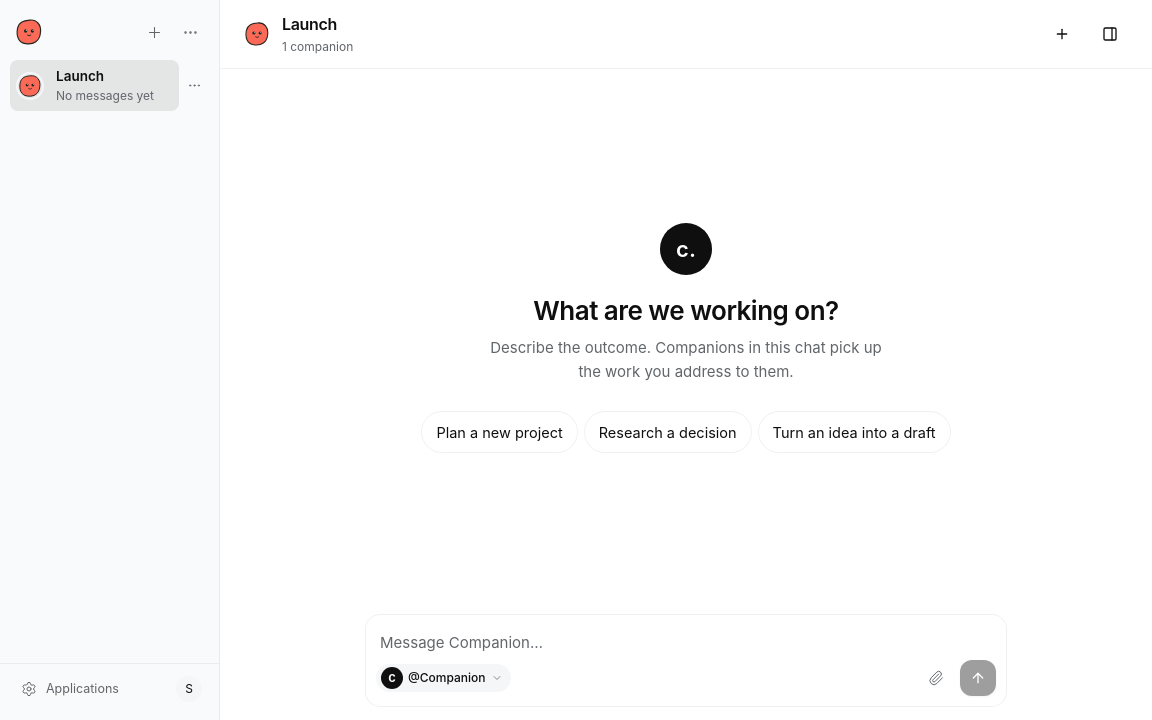
Test: uses the last complete mention without changing the work being inspected
Click the button named "Workspace" at [1110, 34], box [1092,16,1128,52]
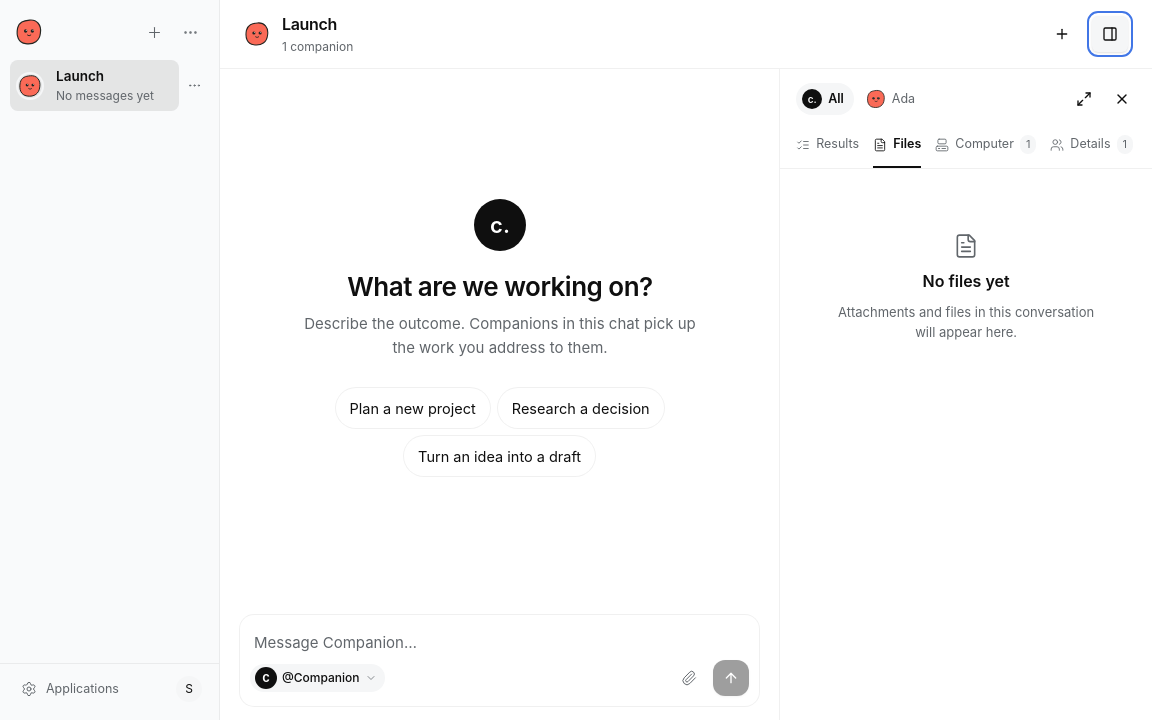
Click the tab "Ada" at [892, 99], box [860,83,925,115]
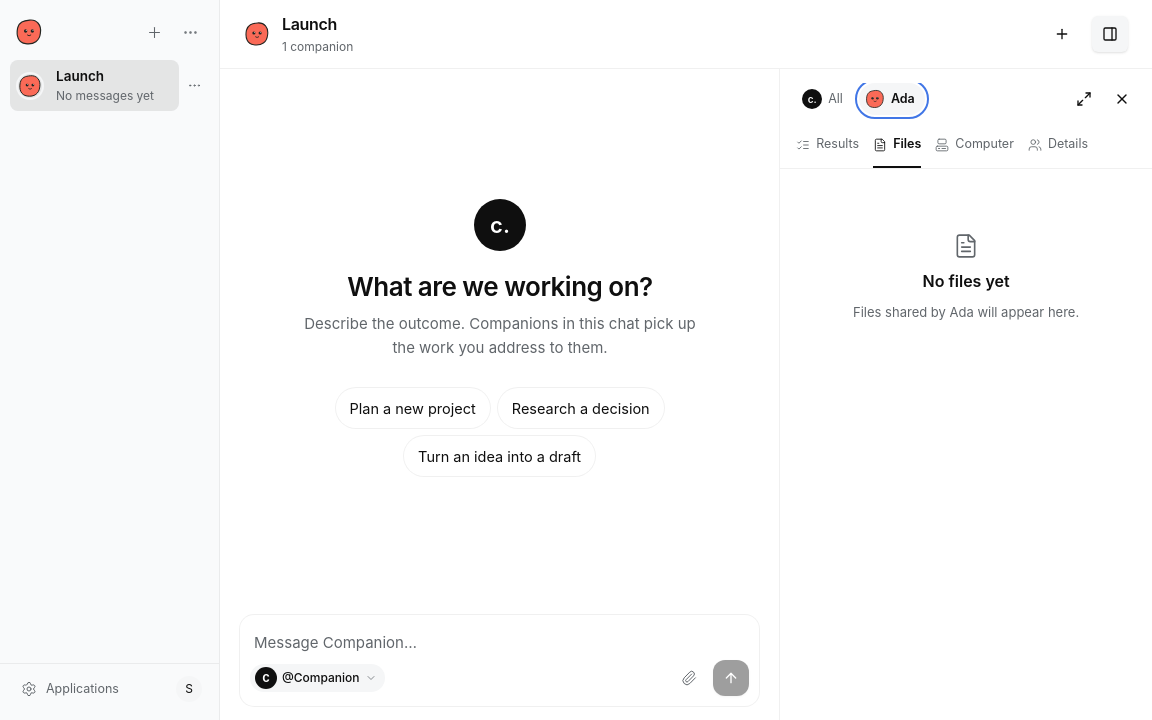
Type "@Ada continue puis @Companion, résume" into the text box labelled "Message Companion" at [500, 642], box [250,625,749,660]
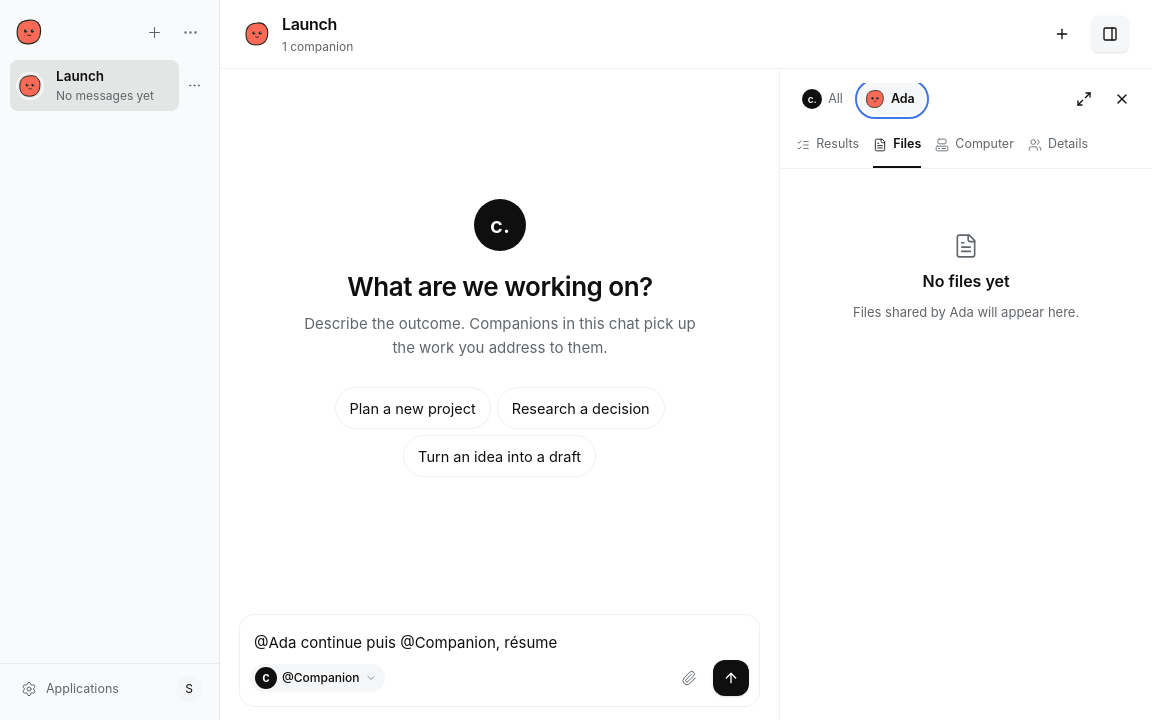
expect the dropdown named "Message recipient" shows "@Companion": met, box [282,664,360,692]
expect the element named "Ada workspace" is shown: met, box [779,69,1151,719]
Replace the text in the text box named "Message Companion" with "@Companion merci. @Ada continue" at [500, 642], box [250,625,749,660]
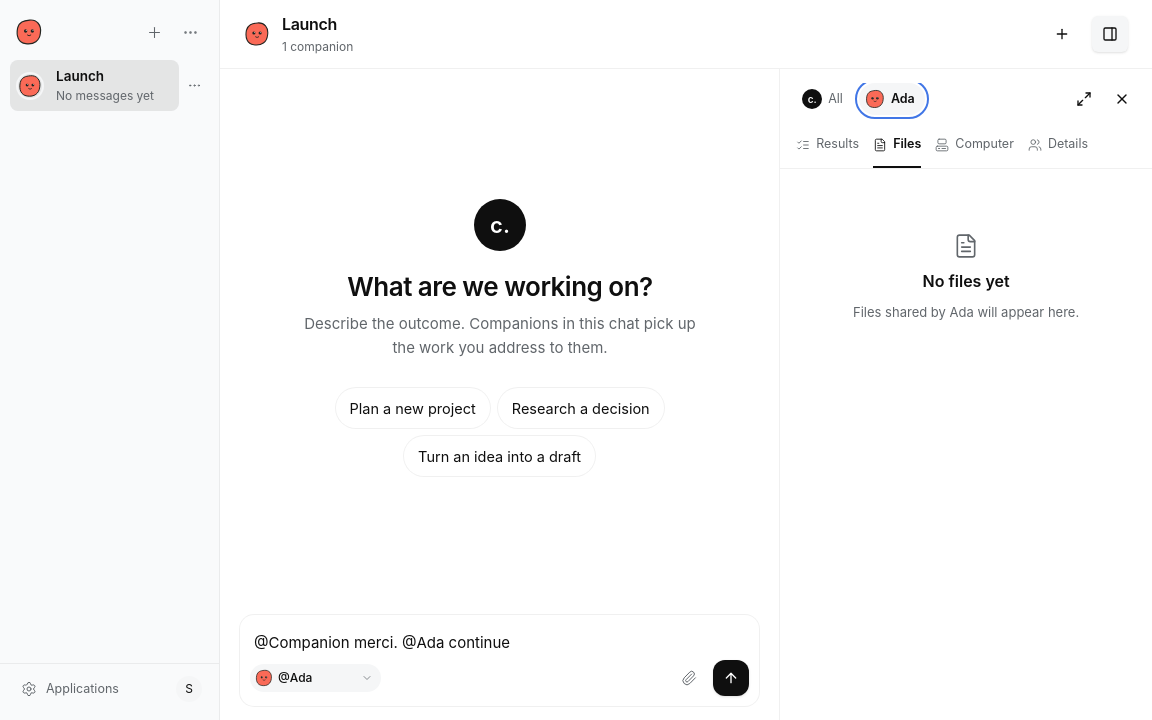
expect the dropdown named "Message recipient" shows "@Ada": met, box [278,664,356,692]
